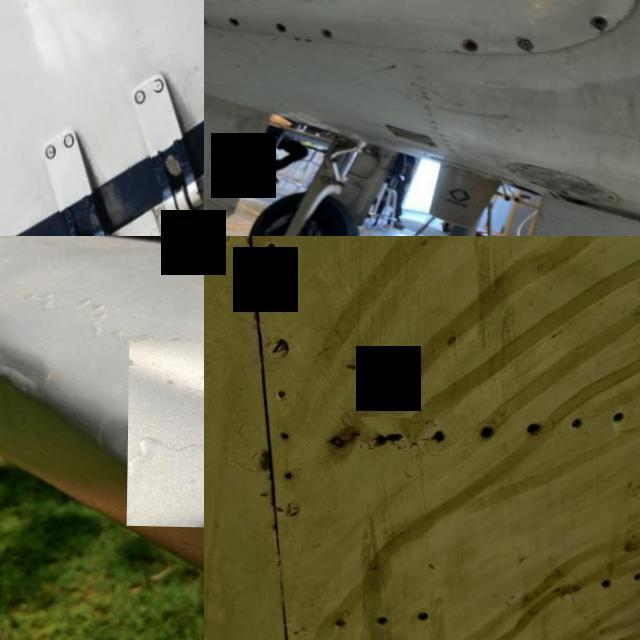Crack: (361, 416, 411, 460)
Dent: (127, 338, 204, 530), (0, 327, 63, 406)
Missing_Fastener: (590, 10, 614, 28), (465, 36, 480, 50), (322, 28, 336, 40), (272, 22, 292, 30), (229, 16, 242, 27)
